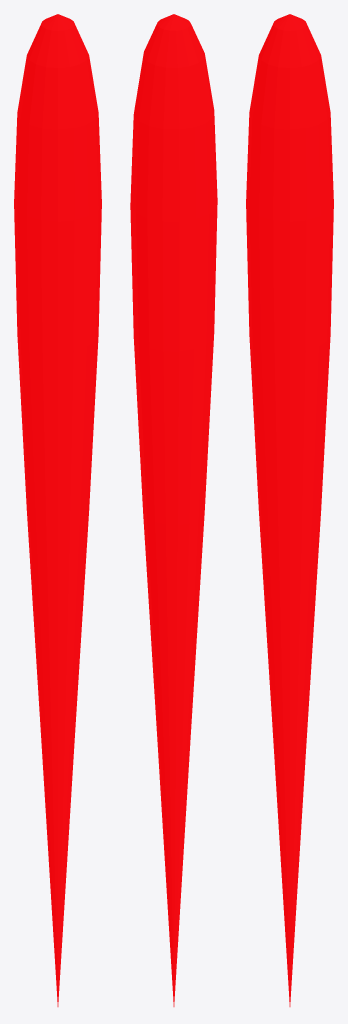
File: laser.glb
3 views of the same model, side by side, from view 1: azimuth 90°, elevation 25°; view 2: azimuth 210°, elevation 25°; view 3: azimuth 270°, elevation 25° (orthographic).
Parts seen in each view (by area): view 1: Sphere; view 2: Sphere; view 3: Sphere.
Boxes of the visible parts, x1=… form: Sphere: x1=14, y1=14, x2=101, y2=1006; Sphere: x1=130, y1=14, x2=217, y2=1006; Sphere: x1=246, y1=14, x2=333, y2=1006.
Size of the model in its own units: 0.4205 by 5.25 by 0.4205.
